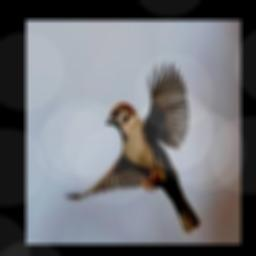Sparrow: (64, 60, 201, 234)
